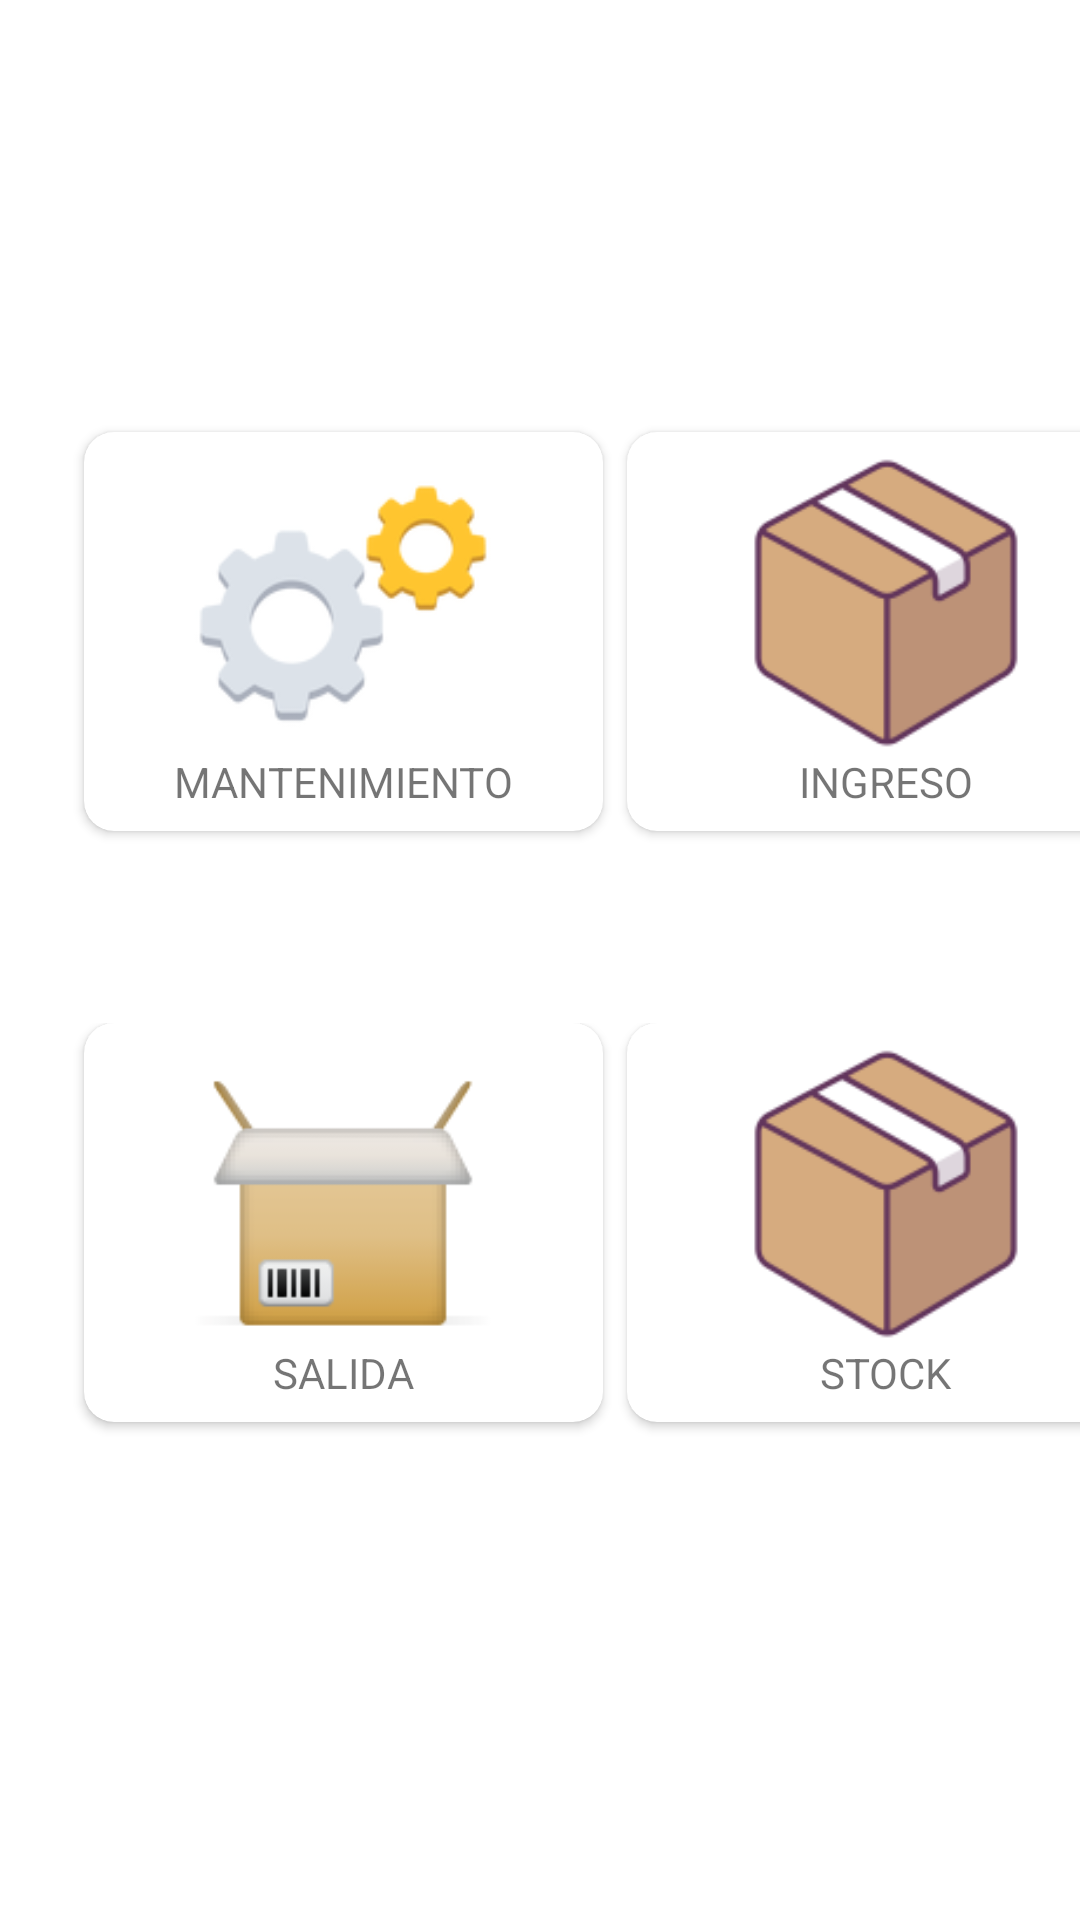

Where icons sit on this 1080*1920 app screen, as (x1, y1, x2, y2):
box: (754, 459, 1018, 747), (754, 1050, 1018, 1338)
box open: (213, 1081, 472, 1326)
config: (200, 485, 487, 721)
